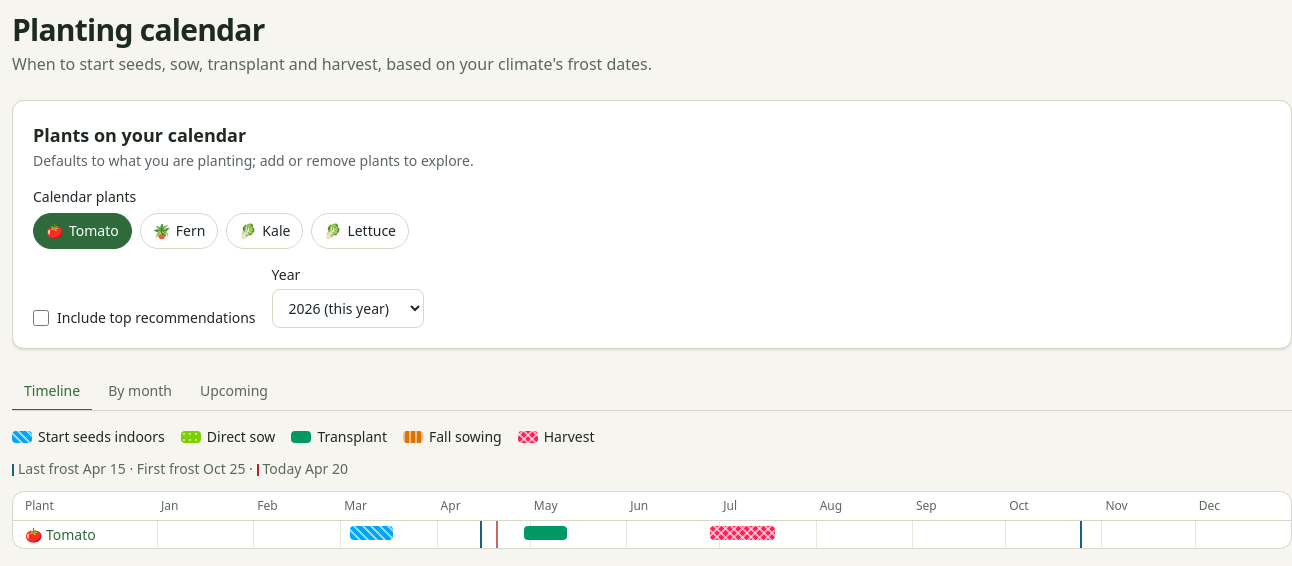
CalendarPage › upcoming tab › lists events starting within 30 days
Click the tab "Upcoming" at (234, 392), box [188,373,280,411]
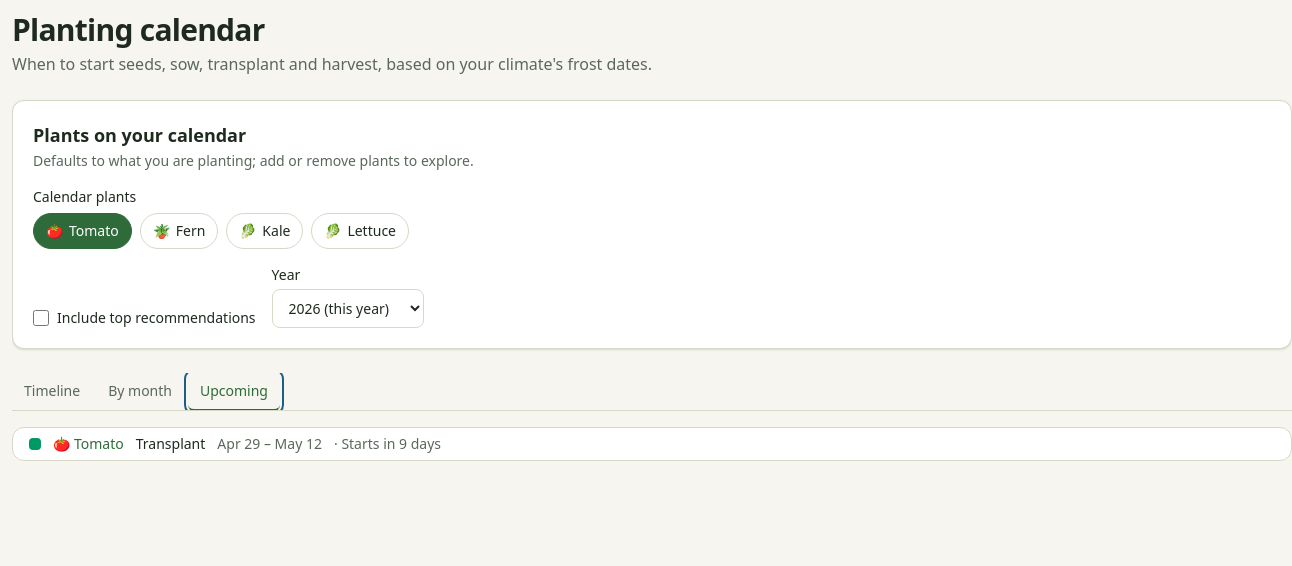
expect the text "Transplant" is shown: met, box [136,434,205,454]
expect the text "· Starts in 9 days" is shown: met, box [334,434,441,454]
